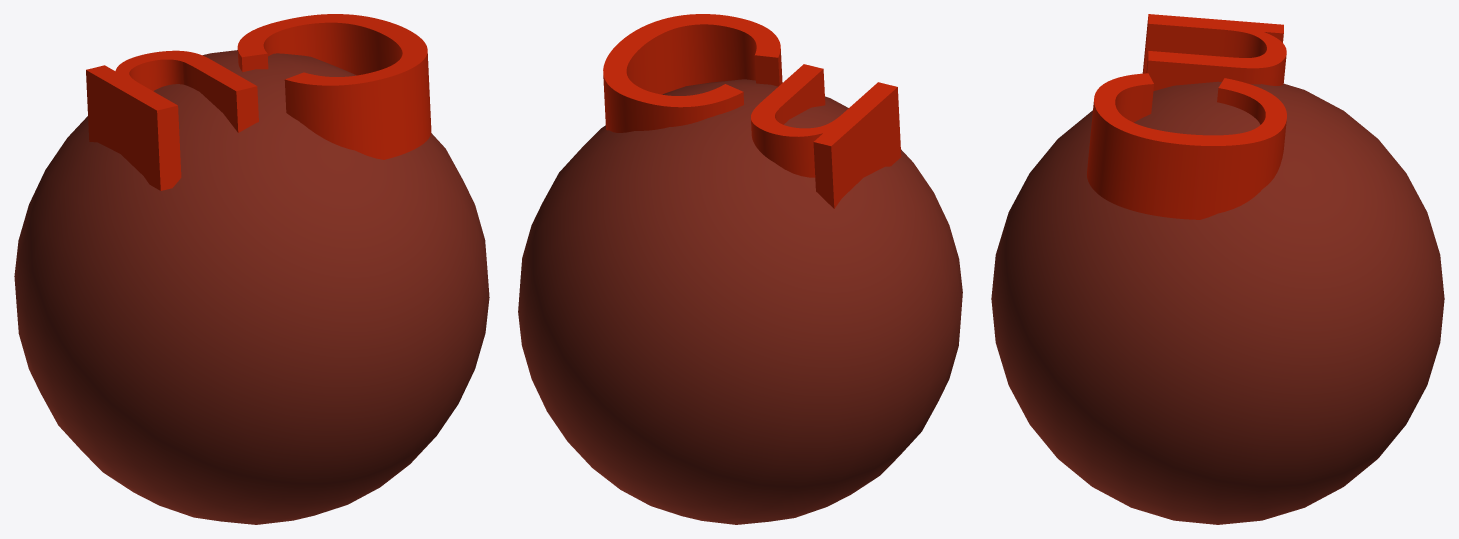
The picture shows the model from 3 angles, left to right: view 1: azimuth 30°, elevation 25°; view 2: azimuth 150°, elevation 25°; view 3: azimuth 270°, elevation 25°; orthographic projection. The views are drawn at different scales.
Visible parts, largest first — view 1: Cu; view 2: Cu; view 3: Cu.
Part boxes in pixels (box(x1,y1,x2,y2)): Cu: box(14, 14, 489, 524); Cu: box(518, 14, 962, 524); Cu: box(991, 14, 1444, 524).
Bounding box in the file's own units: 38.74 × 40.89 × 38.75.
